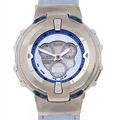watch: (15, 12, 103, 105)
